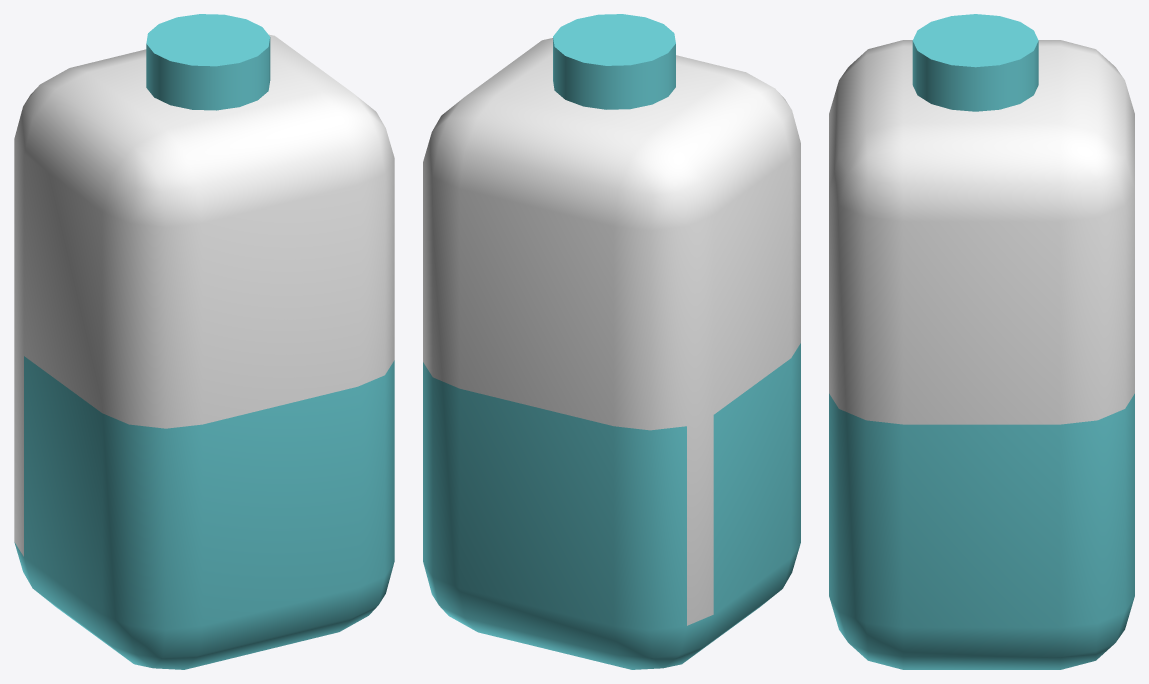
Rendered from BotellaCuadrada.fbx.
3 views of the same model, side by side, from view 1: azimuth 30°, elevation 25°; view 2: azimuth 150°, elevation 25°; view 3: azimuth 270°, elevation 25° (orthographic).
Visible parts, largest first — view 1: BotellaCuadrada, Cylinder.031; view 2: BotellaCuadrada, Cylinder.031; view 3: BotellaCuadrada, Cylinder.031.
Part boxes in pixels (x1,y1,x2,y2): BotellaCuadrada: [14, 34, 394, 669]; Cylinder.031: [146, 14, 270, 110]; BotellaCuadrada: [423, 38, 800, 669]; Cylinder.031: [553, 14, 675, 109]; BotellaCuadrada: [829, 40, 1134, 669]; Cylinder.031: [912, 14, 1038, 111].
Bounding box in the file's own units: 74.49 × 146 × 69.21.
